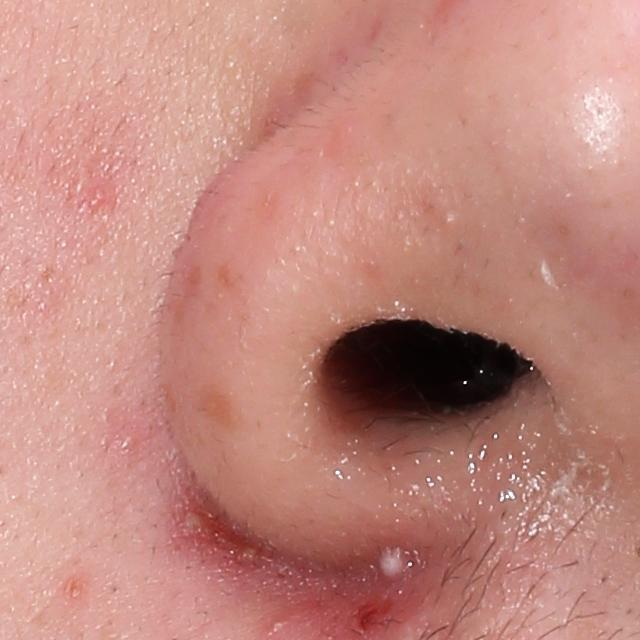comedo: (440, 212, 458, 228)
other: (531, 217, 578, 306)
pustule: (372, 542, 414, 584), (180, 504, 205, 532), (240, 541, 260, 564)
